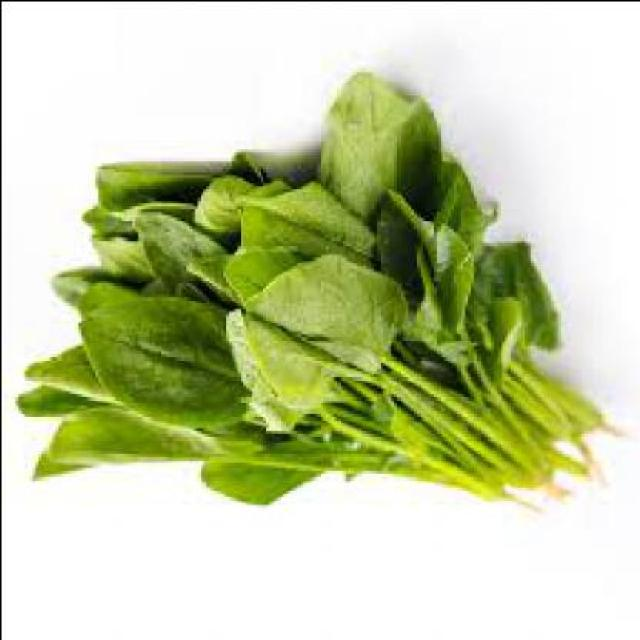BIODEGRADABLE: (18, 74, 612, 503)
